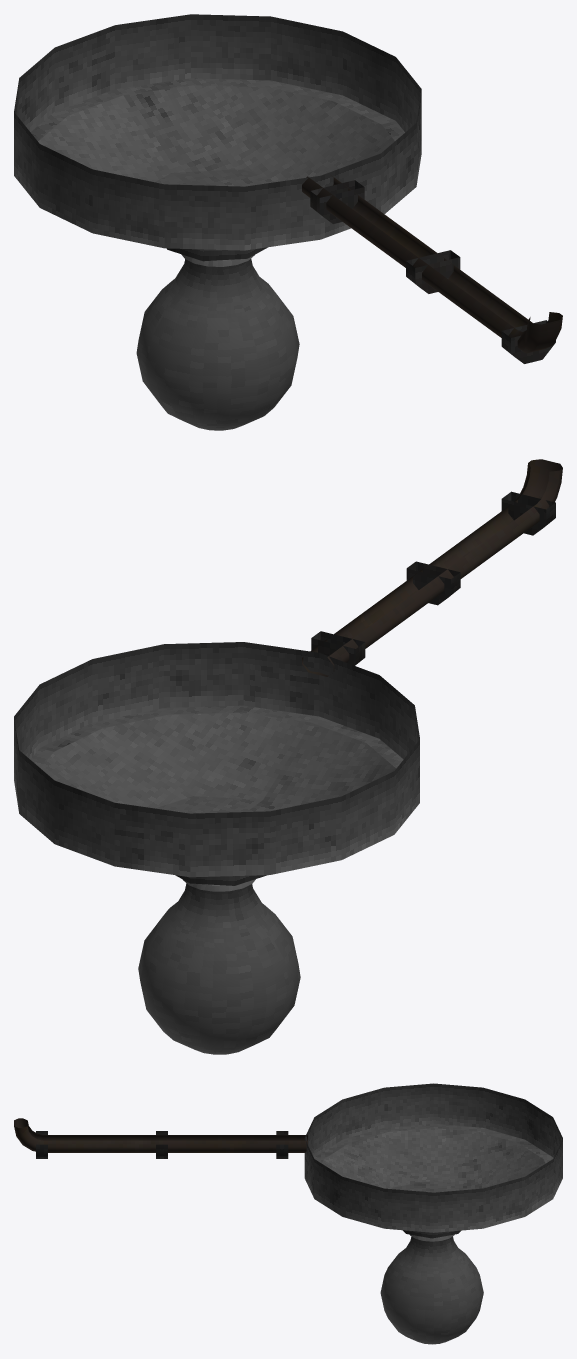
File: ceiling_lamp_mp_1_off.glb
3 views of the same model, one above another, from view 1: azimuth 30°, elevation 25°; view 2: azimuth 150°, elevation 25°; view 3: azimuth 270°, elevation 25° (orthographic). The views are drawn at different scales.
Visible parts, largest first — view 1: ceiling_lamp_mp_1_off; view 2: ceiling_lamp_mp_1_off; view 3: ceiling_lamp_mp_1_off.
Boxes of the visible parts, x1=… form: ceiling_lamp_mp_1_off: x1=14, y1=14, x2=562, y2=430; ceiling_lamp_mp_1_off: x1=14, y1=459, x2=562, y2=1054; ceiling_lamp_mp_1_off: x1=14, y1=1083, x2=562, y2=1344.
Bounding box in the file's own units: 0.215 × 0.1988 × 0.4568.
Materials: 4 (4 with a texture image).
